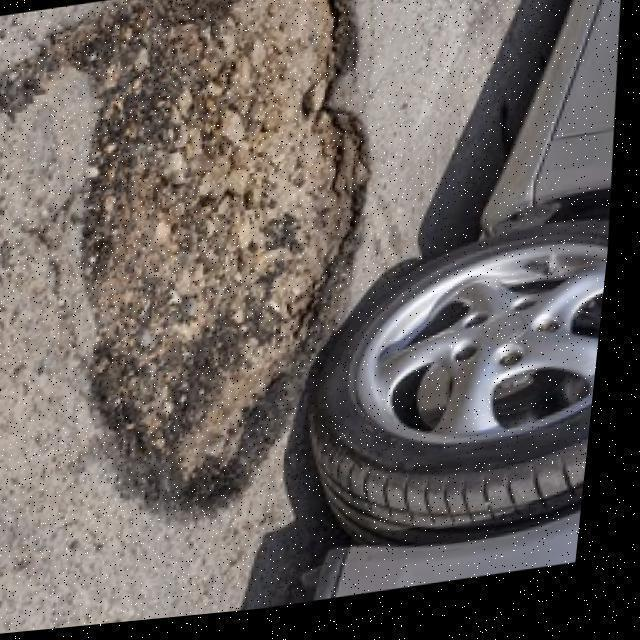Pothole: (0, 0, 375, 521)
